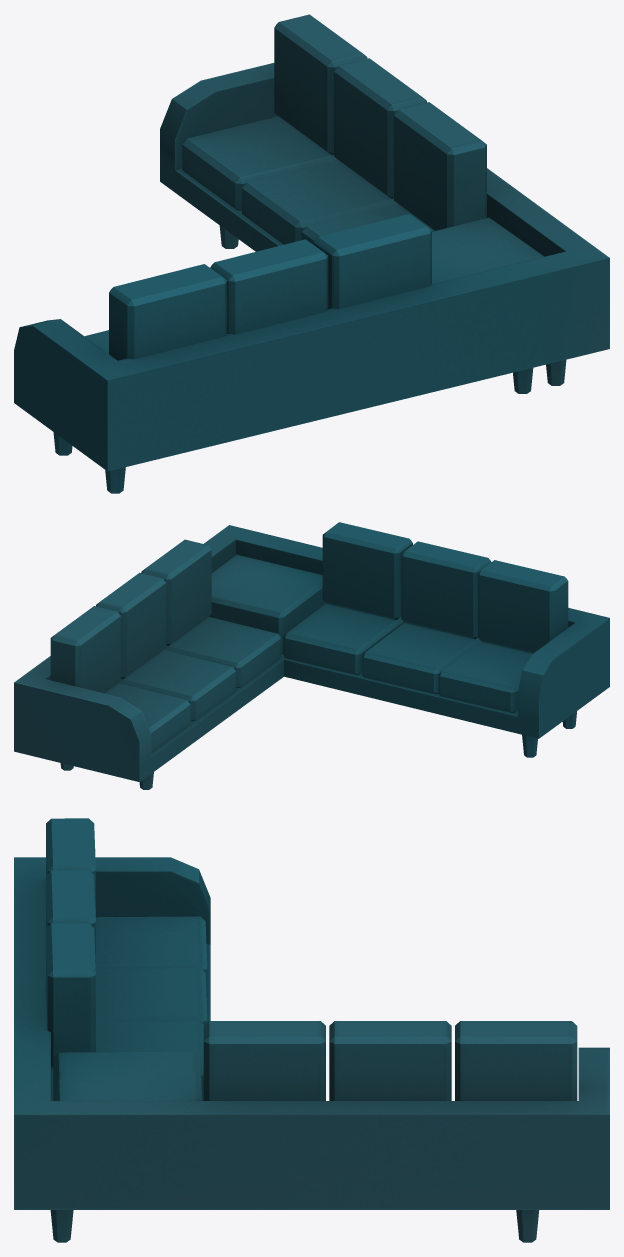
File: sofa01.fbx
3 views of the same model, one above another, from view 1: azimuth 30°, elevation 25°; view 2: azimuth 150°, elevation 25°; view 3: azimuth 270°, elevation 25° (orthographic). The views are drawn at different scales.
Visible parts, largest first — view 1: polySurface172; view 2: polySurface172; view 3: polySurface172.
Boxes of the visible parts, x1,y1,x2,y2 form: polySurface172: (14,14,609,493); polySurface172: (14,522,609,789); polySurface172: (14,818,609,1242).
Size of the model in its own units: 53.34 by 19.45 by 52.24.
Materials: 1 (1 with a texture image).
